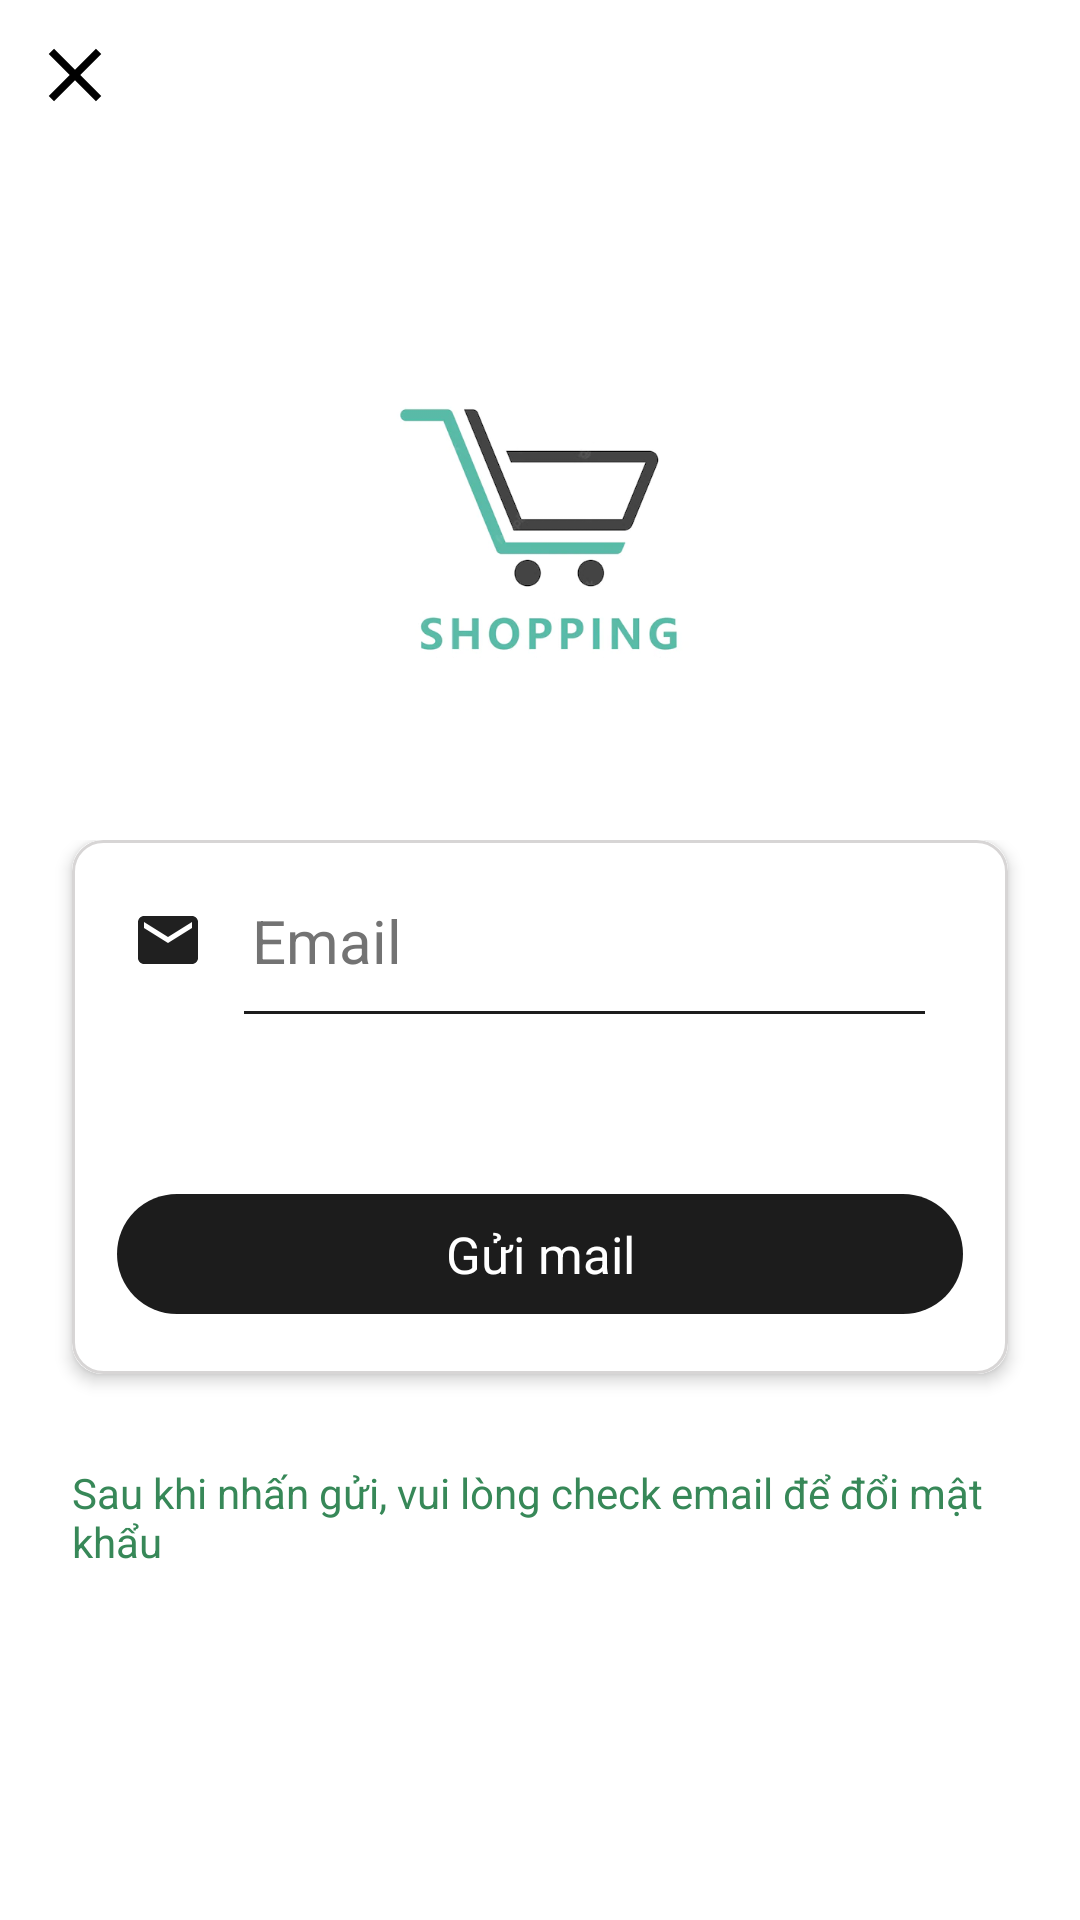

Where to tap for icons on this 1080 x 1920 app screen, as (x,y):
close: (75,75)
